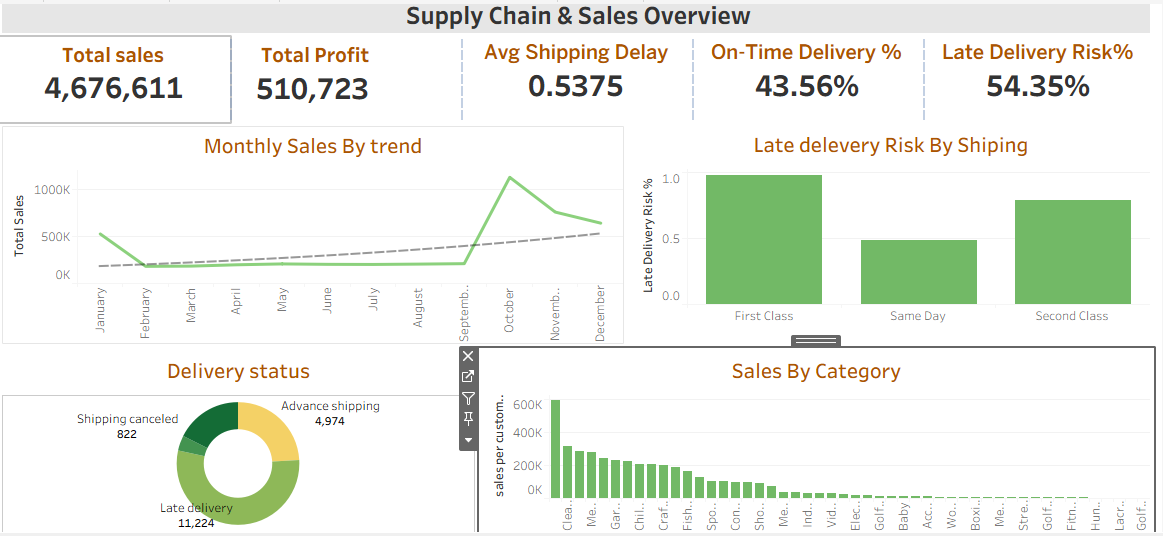

The page's visual inventory and layout, read from the dashboard file:
{"tool":"tableau","page":{"name":"Dashboard 1","canvas":[1000,1000],"units":"permille","ordinal":0},"visuals":[{"type":"title","box":[6.8,14.3,986.3,79.1]},{"type":"worksheet","title":"TOATAL SALES","mark":"Automatic","box":[6.8,92.9,198,151.8]},{"type":"worksheet","title":"TOATAL PROFIT","mark":"Automatic","box":[204.8,92.9,197.1,151.8]},{"type":"worksheet","title":"AVG SHIPPING DELAY","mark":"Automatic","box":[401.9,92.9,197.1,151.8]},{"type":"worksheet","title":"On-Time Delivery %","mark":"Automatic","box":[599,92.9,197.1,151.8]},{"type":"worksheet","title":"Late Delivery Risk %","mark":"Automatic","box":[796.1,92.9,197.1,151.8]},{"type":"worksheet","title":"Monthly Sales Trend","mark":"Line","rows":["Calculation_1541638459908497409"],"cols":["order date (DateOrders) (table1)"],"box":[6.8,245.2,537.5,403.6]},{"type":"worksheet","title":"Late Delivery Risk by Shipping Mode","mark":"Automatic","rows":["Calculation_1541638459916152840"],"cols":["Shipping Mode (table1)"],"box":[544.4,245.2,448.8,403.6]},{"type":"worksheet","title":"Delivery Status Donut Chart","mark":"Pie","cols":["Calculation_1541638459920994316","Calculation_1541638459921088526"],"box":[6.8,648.8,369.5,337]},{"type":"worksheet","title":"Sales by Category","mark":"Automatic","rows":["Calculation_1541638459919474697"],"cols":["Category Name (table1)"],"box":[376.3,648.8,616.8,337]}]}

Visuals, with their boxes on the dashboard's canvas, which has no fixed pixel size, in thousandths of its width and height (x1, y1, x2, y2). These are canvas units, not pixel positions in the 1163x536 screenshot, which may show the page scaled, cropped or inside an application window:
title: 7, 14, 993, 93
"TOATAL SALES" worksheet: 7, 93, 205, 245
"TOATAL PROFIT" worksheet: 205, 93, 402, 245
"AVG SHIPPING DELAY" worksheet: 402, 93, 599, 245
"On-Time Delivery %" worksheet: 599, 93, 796, 245
"Late Delivery Risk %" worksheet: 796, 93, 993, 245
"Monthly Sales Trend" worksheet (Line marks): 7, 245, 544, 649
"Late Delivery Risk by Shipping Mode" worksheet: 544, 245, 993, 649
"Delivery Status Donut Chart" worksheet (Pie marks): 7, 649, 376, 986
"Sales by Category" worksheet: 376, 649, 993, 986
